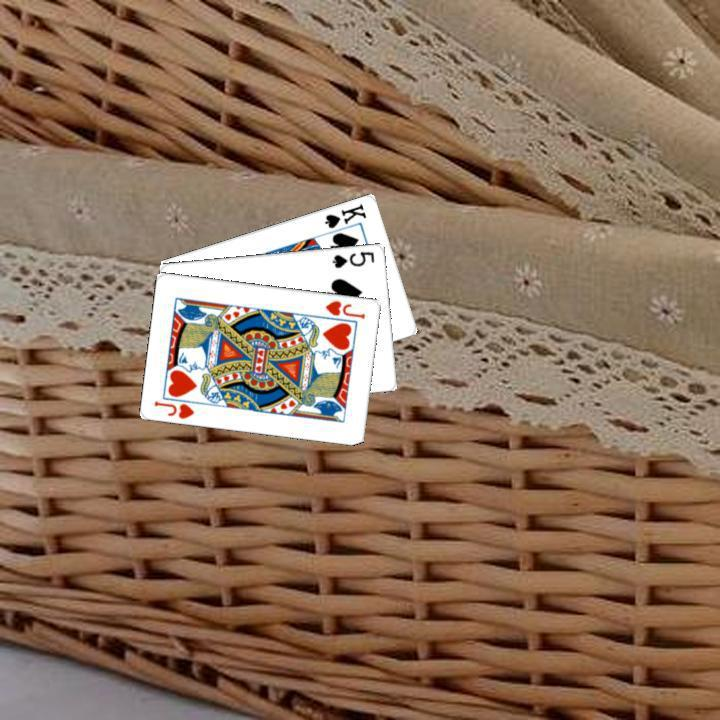5: (328, 247, 377, 269)
J: (321, 296, 367, 320), (150, 396, 196, 420)
K: (320, 199, 369, 230)
